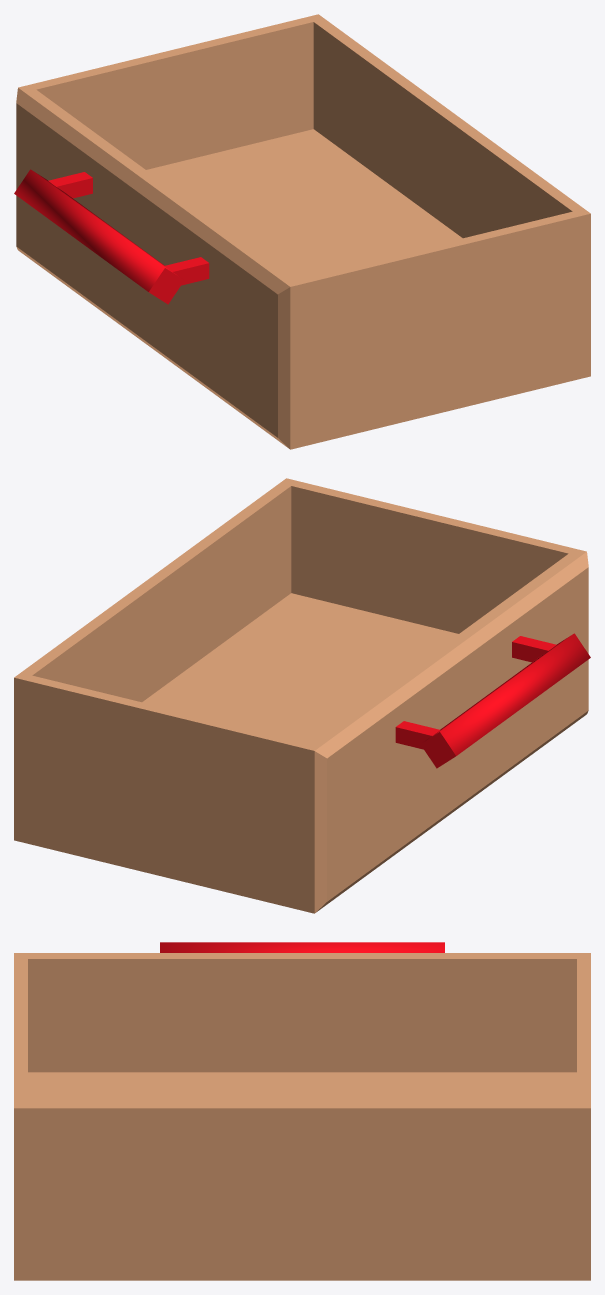
The model's file is mesh_SSOfficeDrawerPullable.fbx.
The picture shows the model from 3 angles, top to bottom: view 1: azimuth 30°, elevation 25°; view 2: azimuth 150°, elevation 25°; view 3: azimuth 270°, elevation 25°; orthographic projection. The views are drawn at different scales.
Parts seen in each view (by area): view 1: Compartment1; view 2: Compartment1; view 3: Compartment1.
Boxes of the visible parts, x1,y1,x2,y2 form: Compartment1: (14, 14, 590, 449); Compartment1: (14, 478, 590, 913); Compartment1: (14, 942, 590, 1280).
Size of the model in its own units: 68.52 by 28.54 by 86.57.
